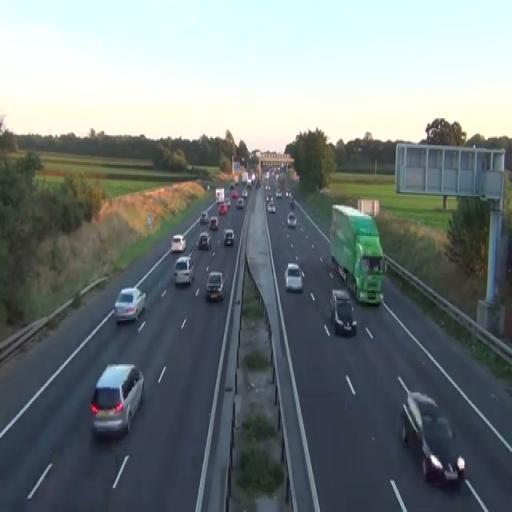Car: (90, 364, 144, 440), (329, 289, 357, 335), (114, 286, 146, 324), (173, 256, 195, 287), (205, 271, 225, 302), (284, 263, 304, 293), (170, 235, 186, 253), (198, 232, 211, 250), (224, 228, 234, 247), (209, 216, 218, 230)
Truck: (330, 204, 386, 307)
